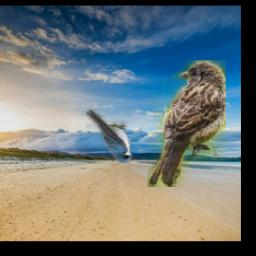Sparrow: (148, 60, 226, 187)
Swallow: (86, 110, 133, 163)
